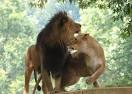lion: (23, 10, 80, 94), (64, 33, 105, 94)
